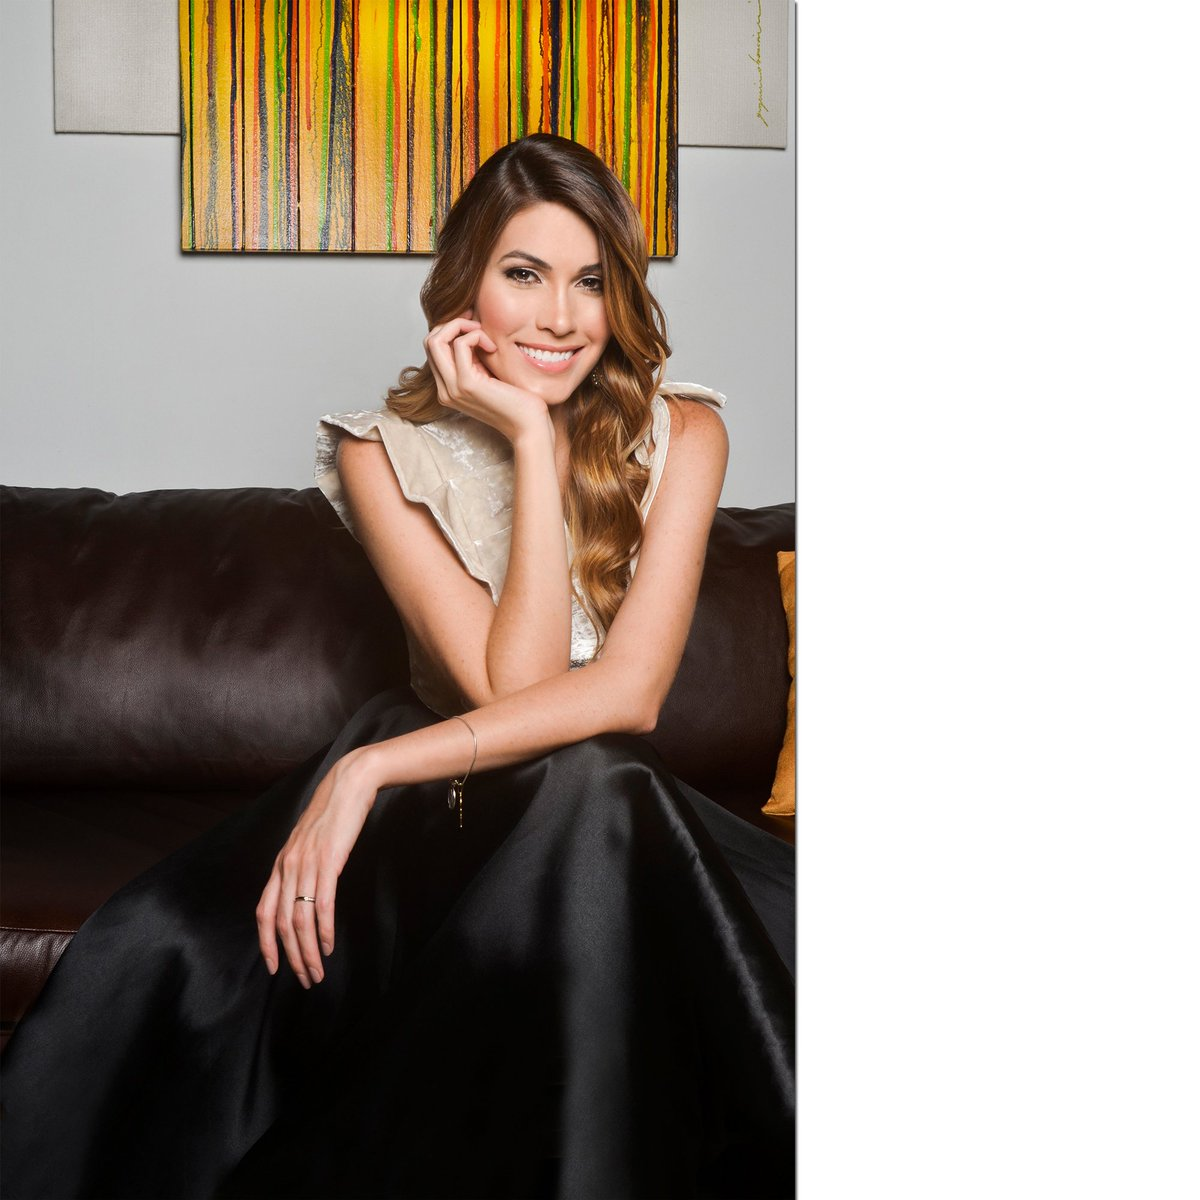person: (296, 80, 732, 780)
